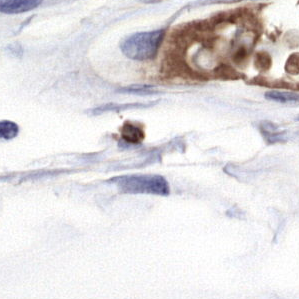Lymphocyte: (117, 118, 149, 145)
